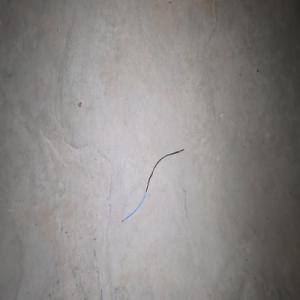Wire: (121, 148, 184, 222)
